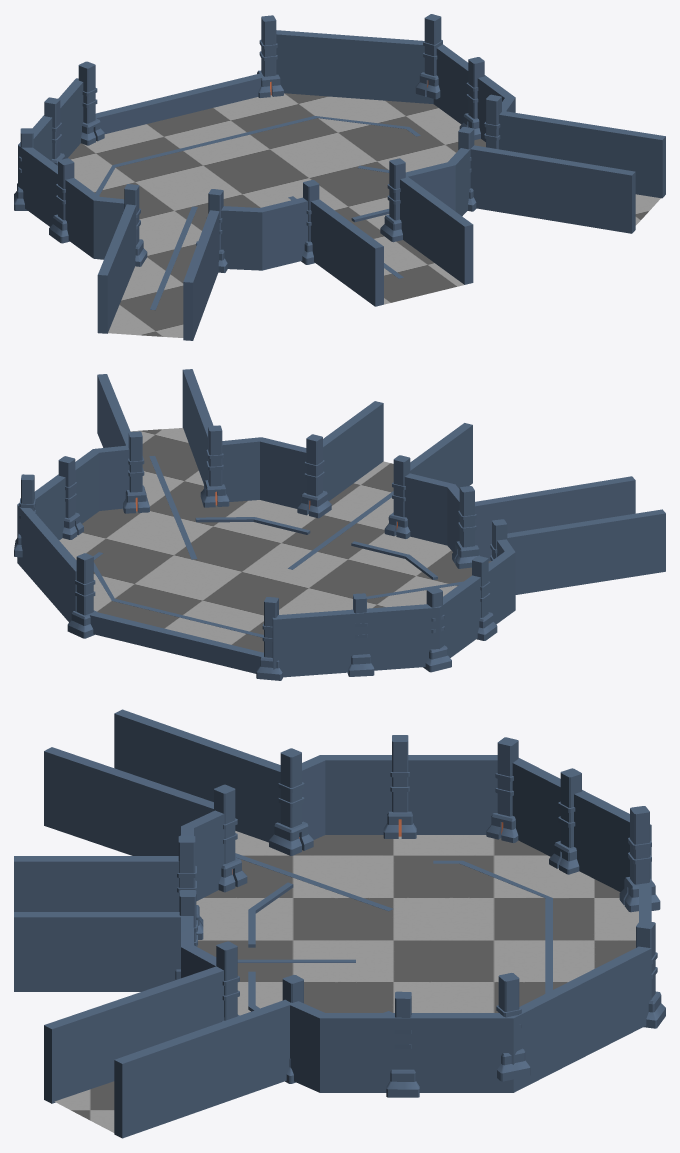
Rendered from Arenas.fbx.
3 views of the same model, one above another, from view 1: azimuth 30°, elevation 25°; view 2: azimuth 150°, elevation 25°; view 3: azimuth 270°, elevation 25° (orthographic). The views are drawn at different scales.
Visible parts, largest first — view 1: Plane.001, Plane, Plane.002, Cube.008, Cube.009, Cube.004, Cube.012, Cube.007, Cube.013, Cube.010, Cube.005, Cube.003 (+4 smaller); view 2: Plane.001, Plane, Plane.002, Cube.012, Cube.008, Cube.011, Cube.002, Cube.010, Cube, Cube.013, Cube.004, Cube.007 (+3 smaller); view 3: Plane.001, Plane, Plane.002, Cube.003, Cube.004, Cube.007, Cube.006, Cube.005, Cube.002, Cube.009, Cube.013, Cube.008 (+4 smaller).
Boxes of the visible parts, x1,y1,x2,y2 form: Plane.001: (18,30,665,340); Plane: (68,93,660,337); Plane.002: (95,116,420,310); Cube.008: (257,15,283,97); Cube.009: (415,14,442,99); Cube.004: (78,61,104,145); Cube.012: (380,158,405,242); Cube.007: (49,158,74,243); Cube.013: (459,57,484,140); Cube.010: (484,94,501,149); Cube.005: (44,97,64,165); Cube.003: (122,184,147,266); Plane.001: (17,369,665,677); Plane: (59,428,491,652); Plane.002: (93,455,463,637); Cube.012: (297,434,331,518); Cube.008: (67,553,97,638); Cube.011: (200,425,229,507); Cube.002: (452,486,479,568); Cube.010: (123,431,149,513); Cube: (384,455,410,538); Cube.013: (58,456,83,539); Cube.004: (256,597,282,680); Cube.007: (472,556,497,640); Plane.001: (14,709,651,1138); Plane: (54,831,638,1132); Plane.002: (235,853,552,1012); Cube.003: (269,748,313,855); Cube.004: (619,806,660,912); Cube.007: (383,735,416,838); Cube.006: (486,737,518,842); Cube.005: (549,768,581,874); Cube.002: (214,784,247,892); Cube.009: (496,973,530,1081); Cube.013: (386,991,419,1097); Cube.008: (636,920,665,1028).
Bounding box in the file's own units: 32.84 × 5.26 × 25.52.
